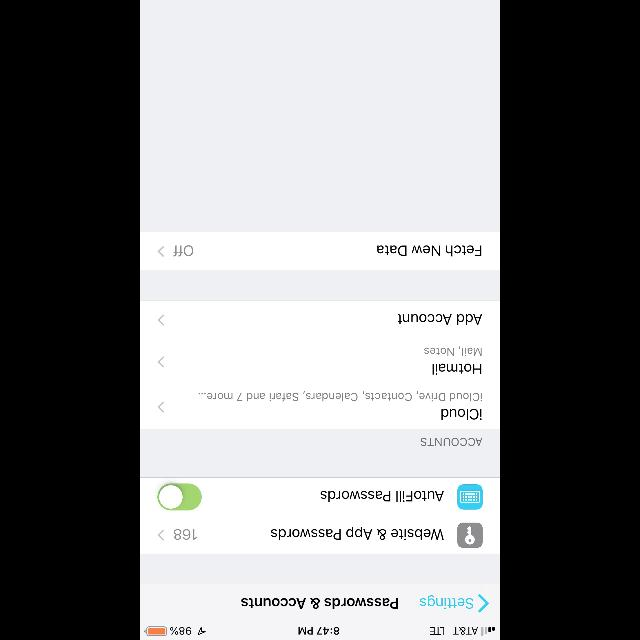icon: (478, 594, 488, 612), (158, 314, 165, 326), (158, 357, 165, 368), (158, 530, 165, 540), (158, 402, 165, 412), (158, 246, 165, 256)
image: (458, 522, 482, 548), (458, 484, 482, 510)
switch: (158, 484, 202, 511)
text: (198, 391, 482, 402), (271, 526, 444, 540), (240, 598, 398, 610), (321, 491, 444, 502), (377, 246, 481, 256), (398, 314, 482, 324), (420, 595, 472, 609), (424, 346, 482, 356), (432, 364, 482, 374), (420, 438, 482, 446), (441, 408, 481, 419), (175, 528, 198, 540), (173, 246, 193, 256)
uppertaskbar: (140, 626, 500, 640)
